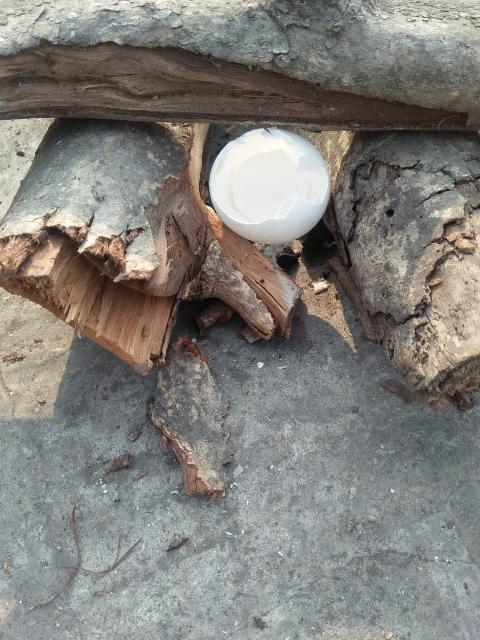Roto: (208, 126, 331, 244)
